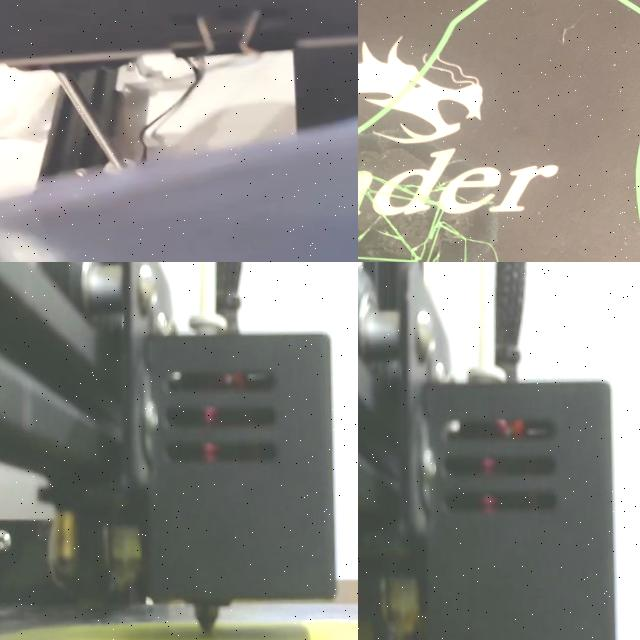spaghetti: (358, 177, 571, 262)
